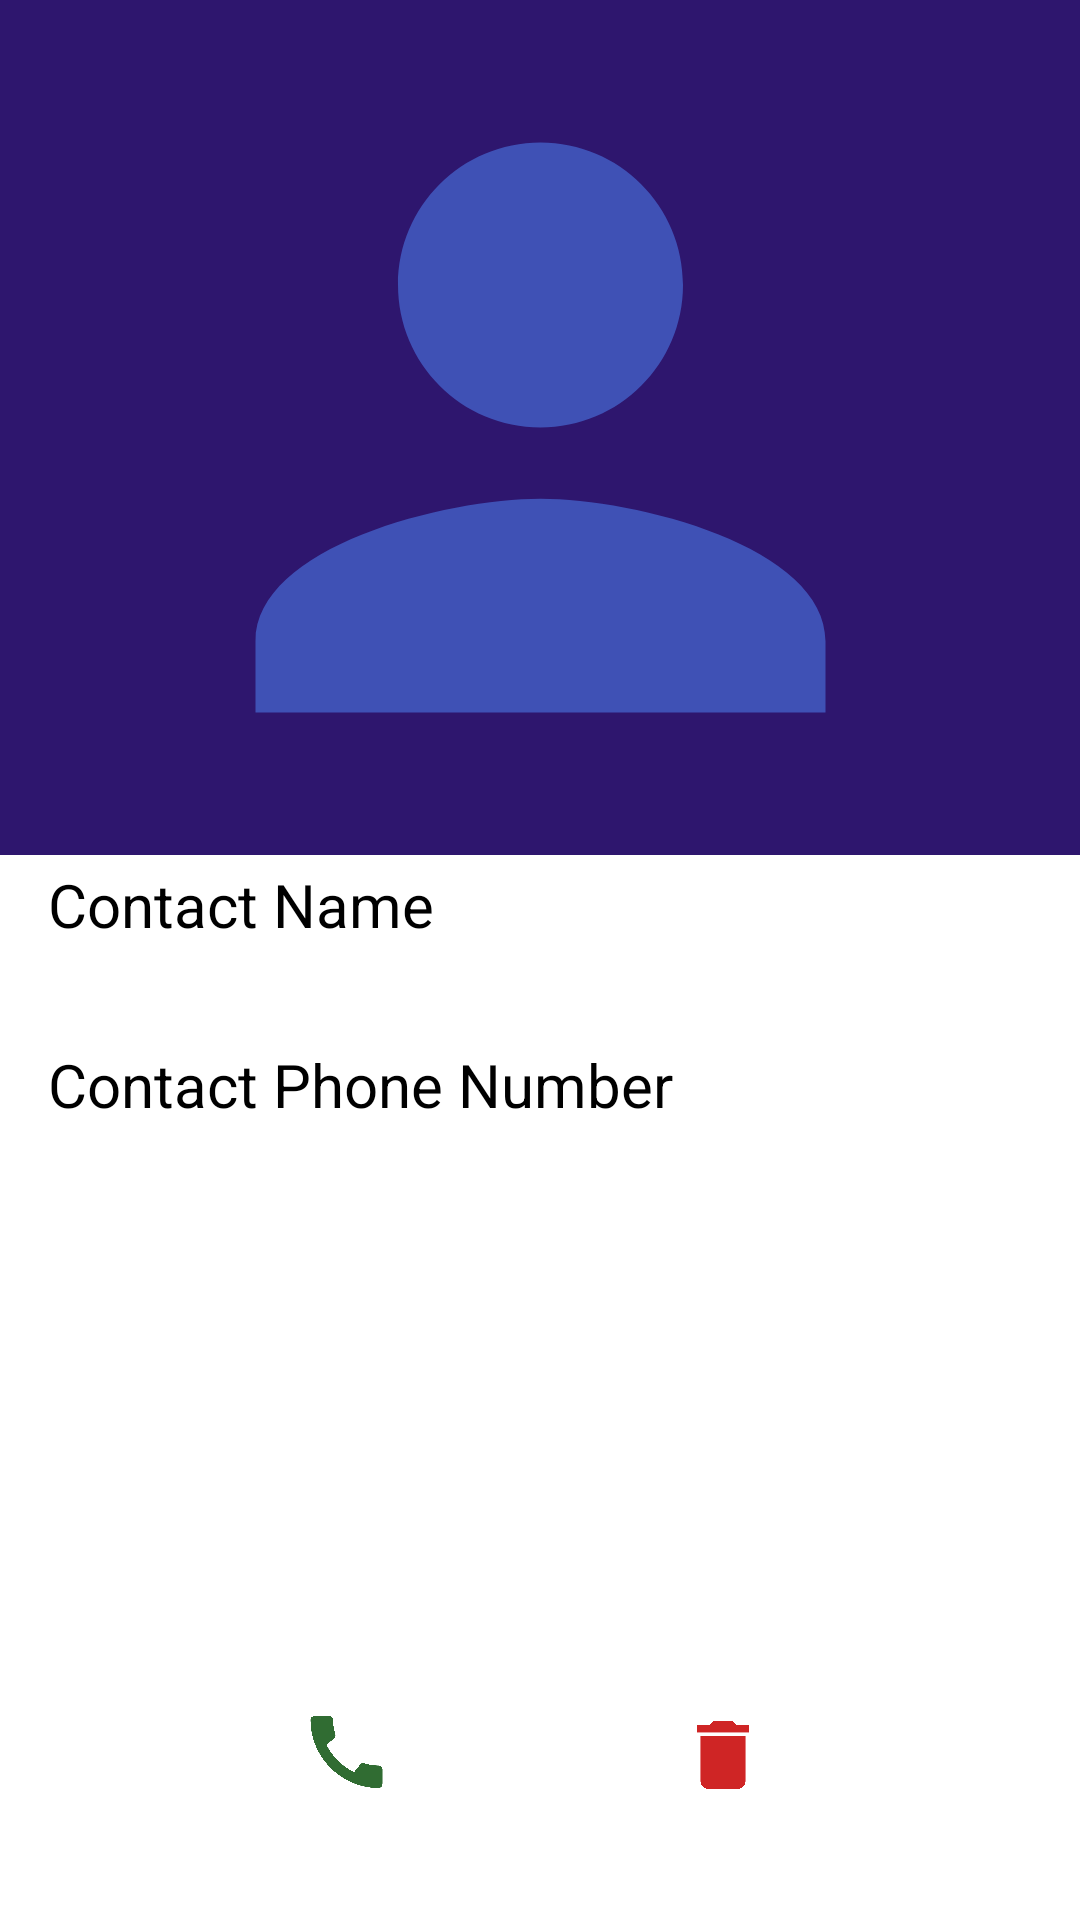

Icon click points for this 1080w x 1920h phone screenshot, format point (x, y):
call: point (346, 1752)
delete: point (723, 1755)
